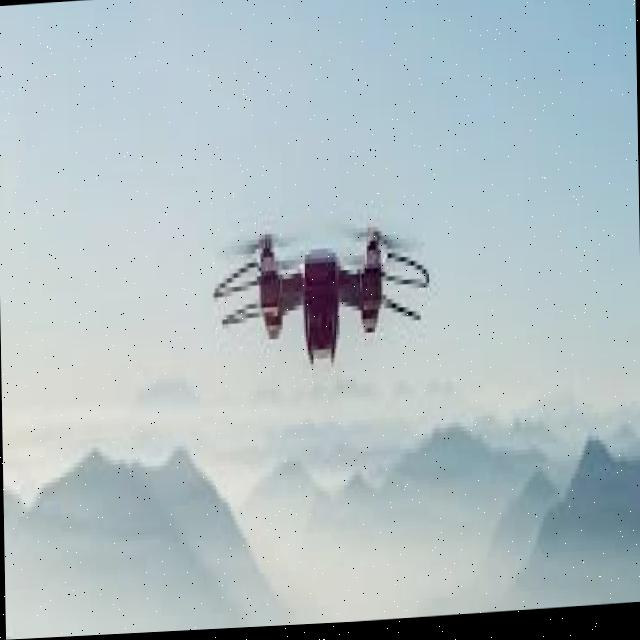drone: (200, 193, 440, 416)
